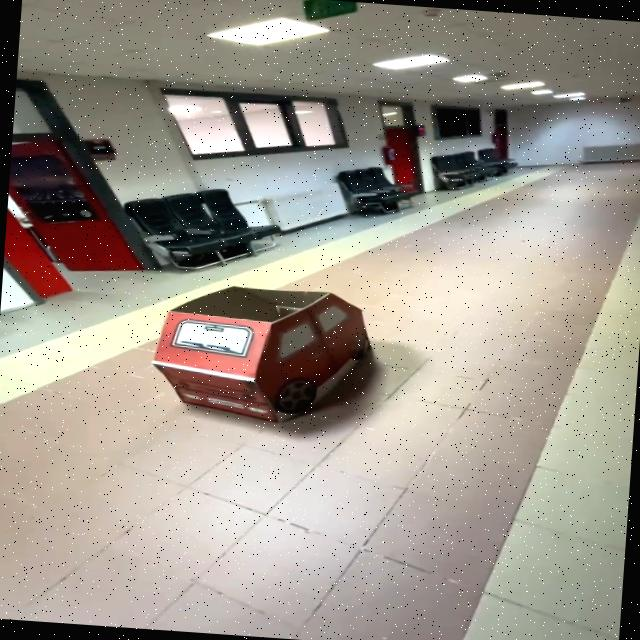red_car: (136, 269, 402, 440)
